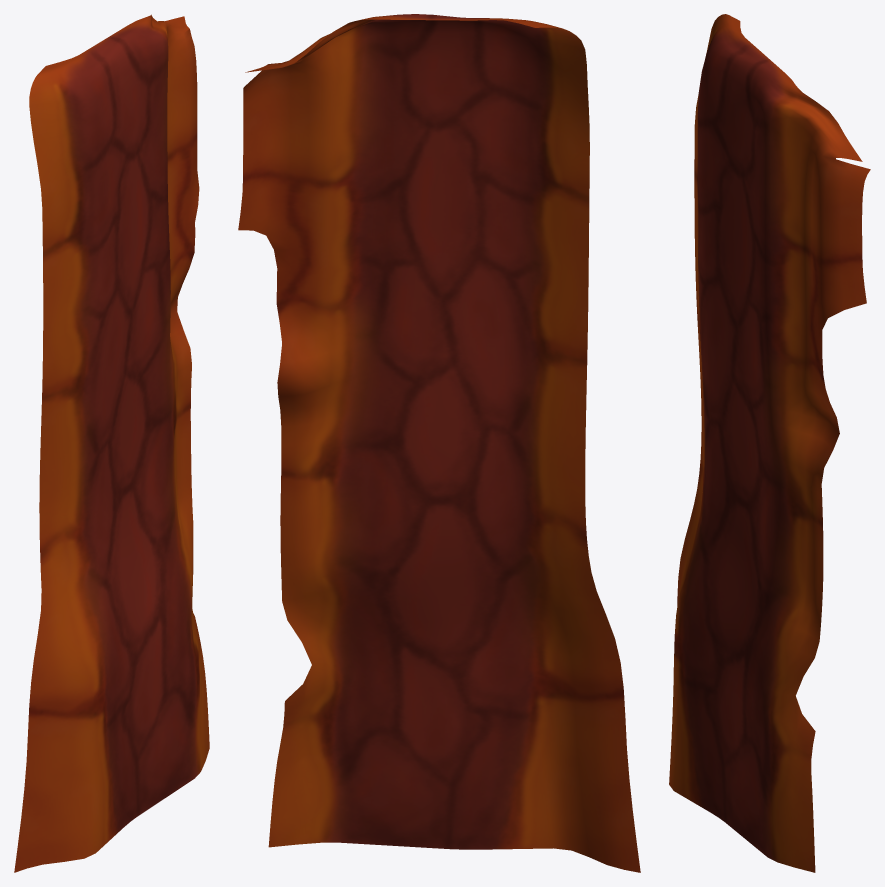
Rendered from lava_cascade_mesh.FBX.
3 views of the same model, side by side, from view 1: azimuth 30°, elevation 25°; view 2: azimuth 150°, elevation 25°; view 3: azimuth 270°, elevation 25° (orthographic). The views are drawn at different scales.
Visible parts, largest first — view 1: Left_Limit_NT; view 2: Left_Limit_NT; view 3: Left_Limit_NT.
Part boxes in pixels (x1,y1,x2,y2): Left_Limit_NT: (14,14,209,872); Left_Limit_NT: (238,14,640,872); Left_Limit_NT: (669,14,870,872).
Size of the model in its own units: 876 by 2413 by 578.
Materials: 1 (1 with a texture image).
